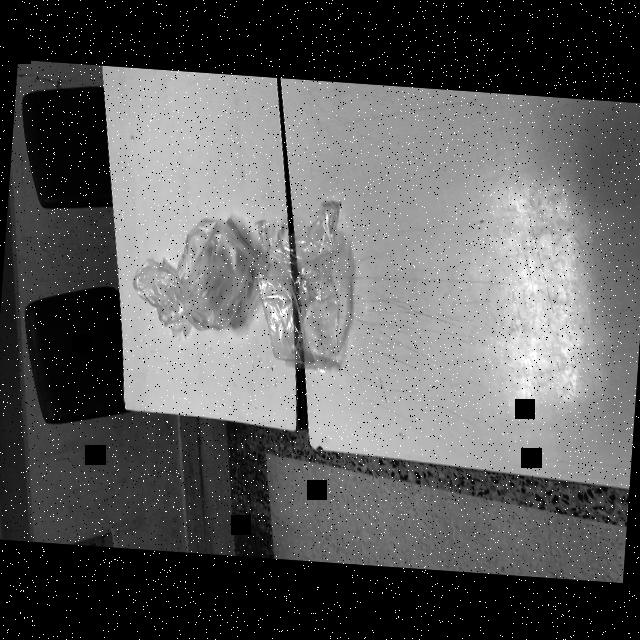plastic_bag: (252, 192, 364, 380), (170, 212, 266, 346), (121, 254, 188, 335)
